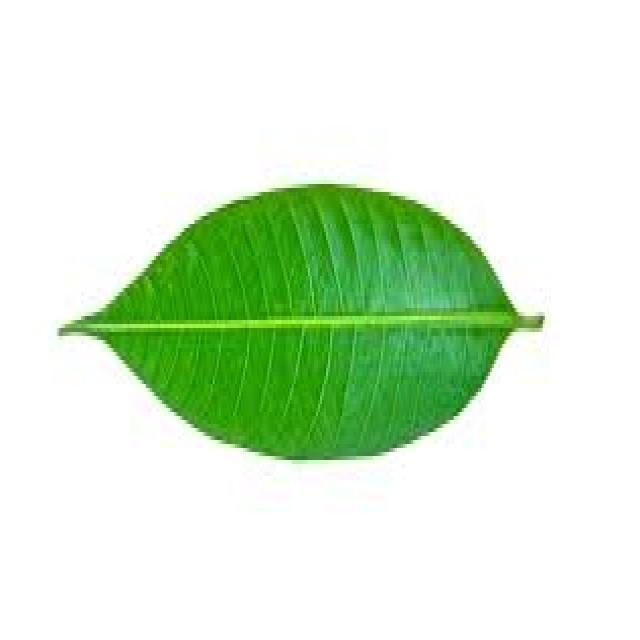leaf: (56, 182, 545, 461)
